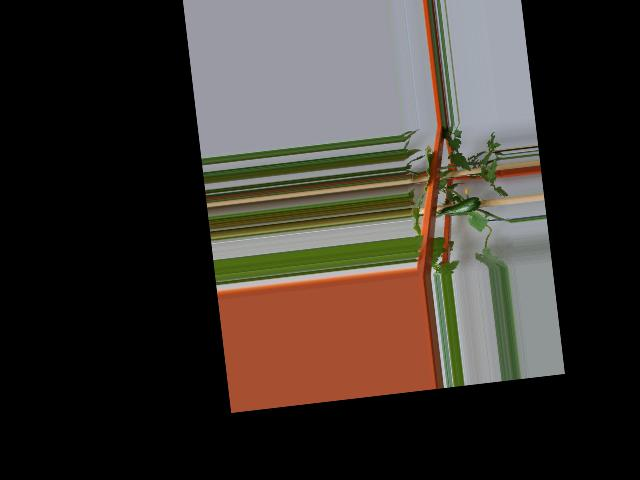cucumber: (441, 195, 485, 217)
